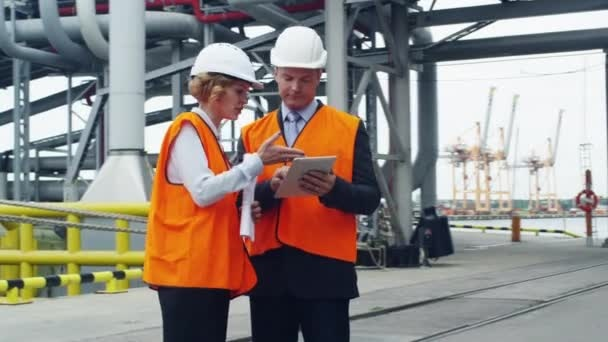helmet: (189, 43, 264, 86), (269, 27, 329, 70)
person with full safety: (241, 25, 362, 342), (143, 40, 257, 342)
safety vest: (145, 112, 258, 294), (242, 104, 363, 259)
